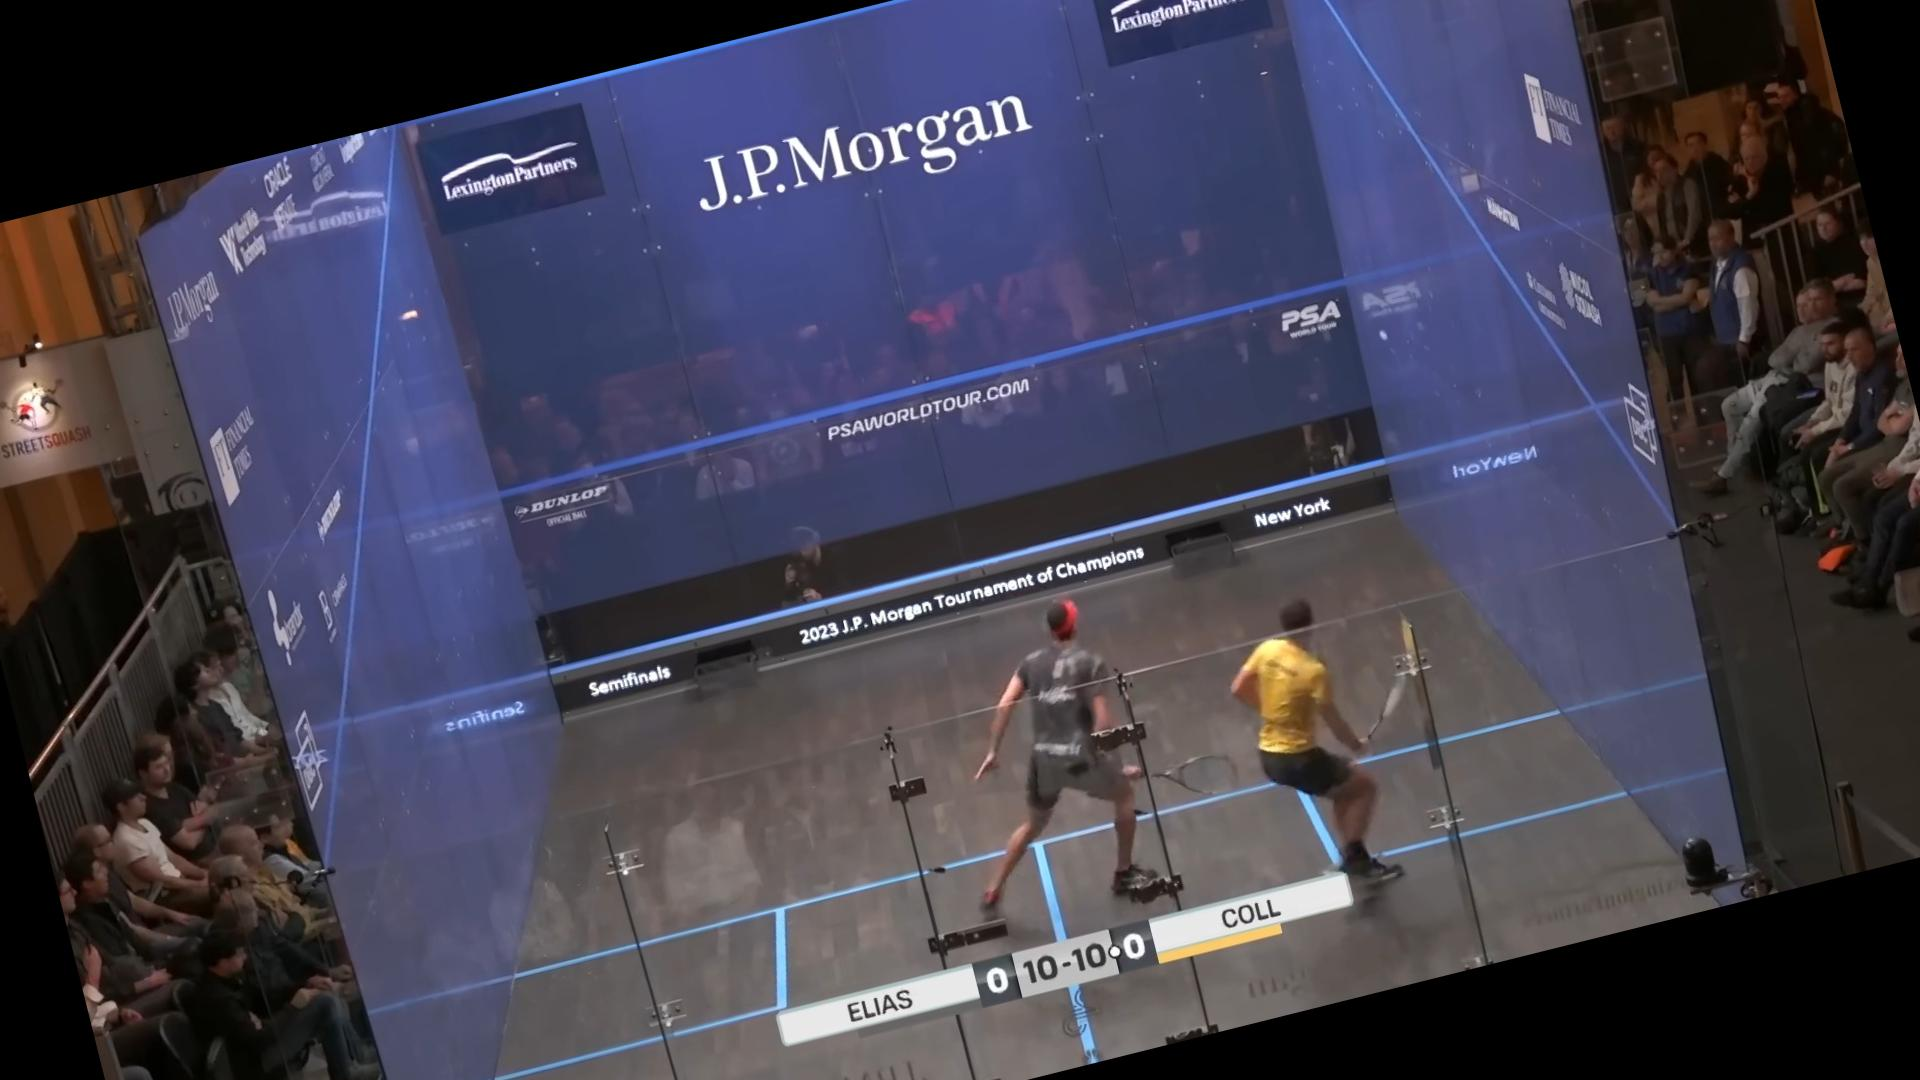Racket: (1127, 737, 1251, 822), (1345, 649, 1439, 746)
